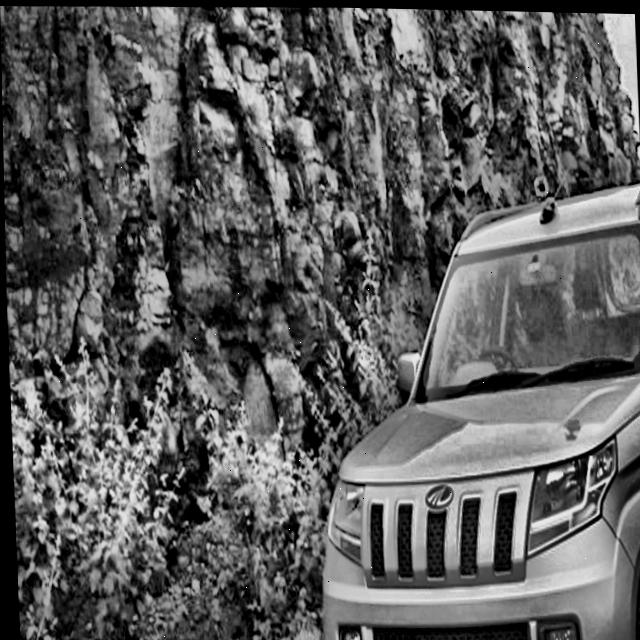light_vehicle: (299, 155, 640, 640)
